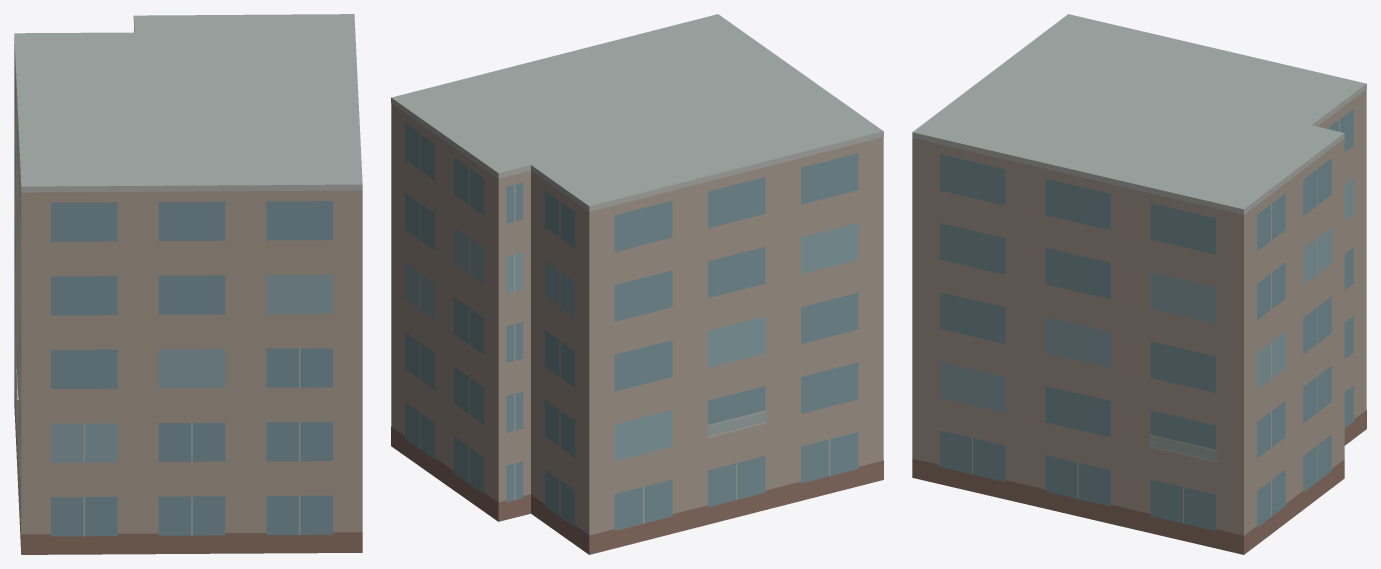
Rendered from survey-upis-32876839.glb.
3 views of the same model, side by side, from view 1: azimuth 30°, elevation 25°; view 2: azimuth 150°, elevation 25°; view 3: azimuth 270°, elevation 25° (orthographic). The views are drawn at different scales.
Parts seen in each view (by area): view 1: survey-upis-32876839.tmp; view 2: survey-upis-32876839.tmp; view 3: survey-upis-32876839.tmp.
Part boxes in pixels (x1,y1,x2,y2): survey-upis-32876839.tmp: [14, 14, 362, 554]; survey-upis-32876839.tmp: [391, 14, 883, 554]; survey-upis-32876839.tmp: [912, 14, 1366, 554].
Size of the model in its own units: 18.51 by 15.25 by 18.19.
